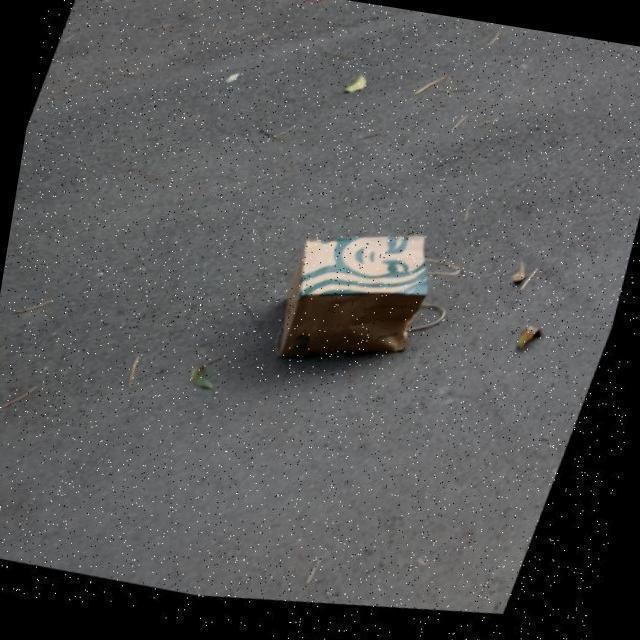Paper_Bag: (264, 205, 481, 412)
